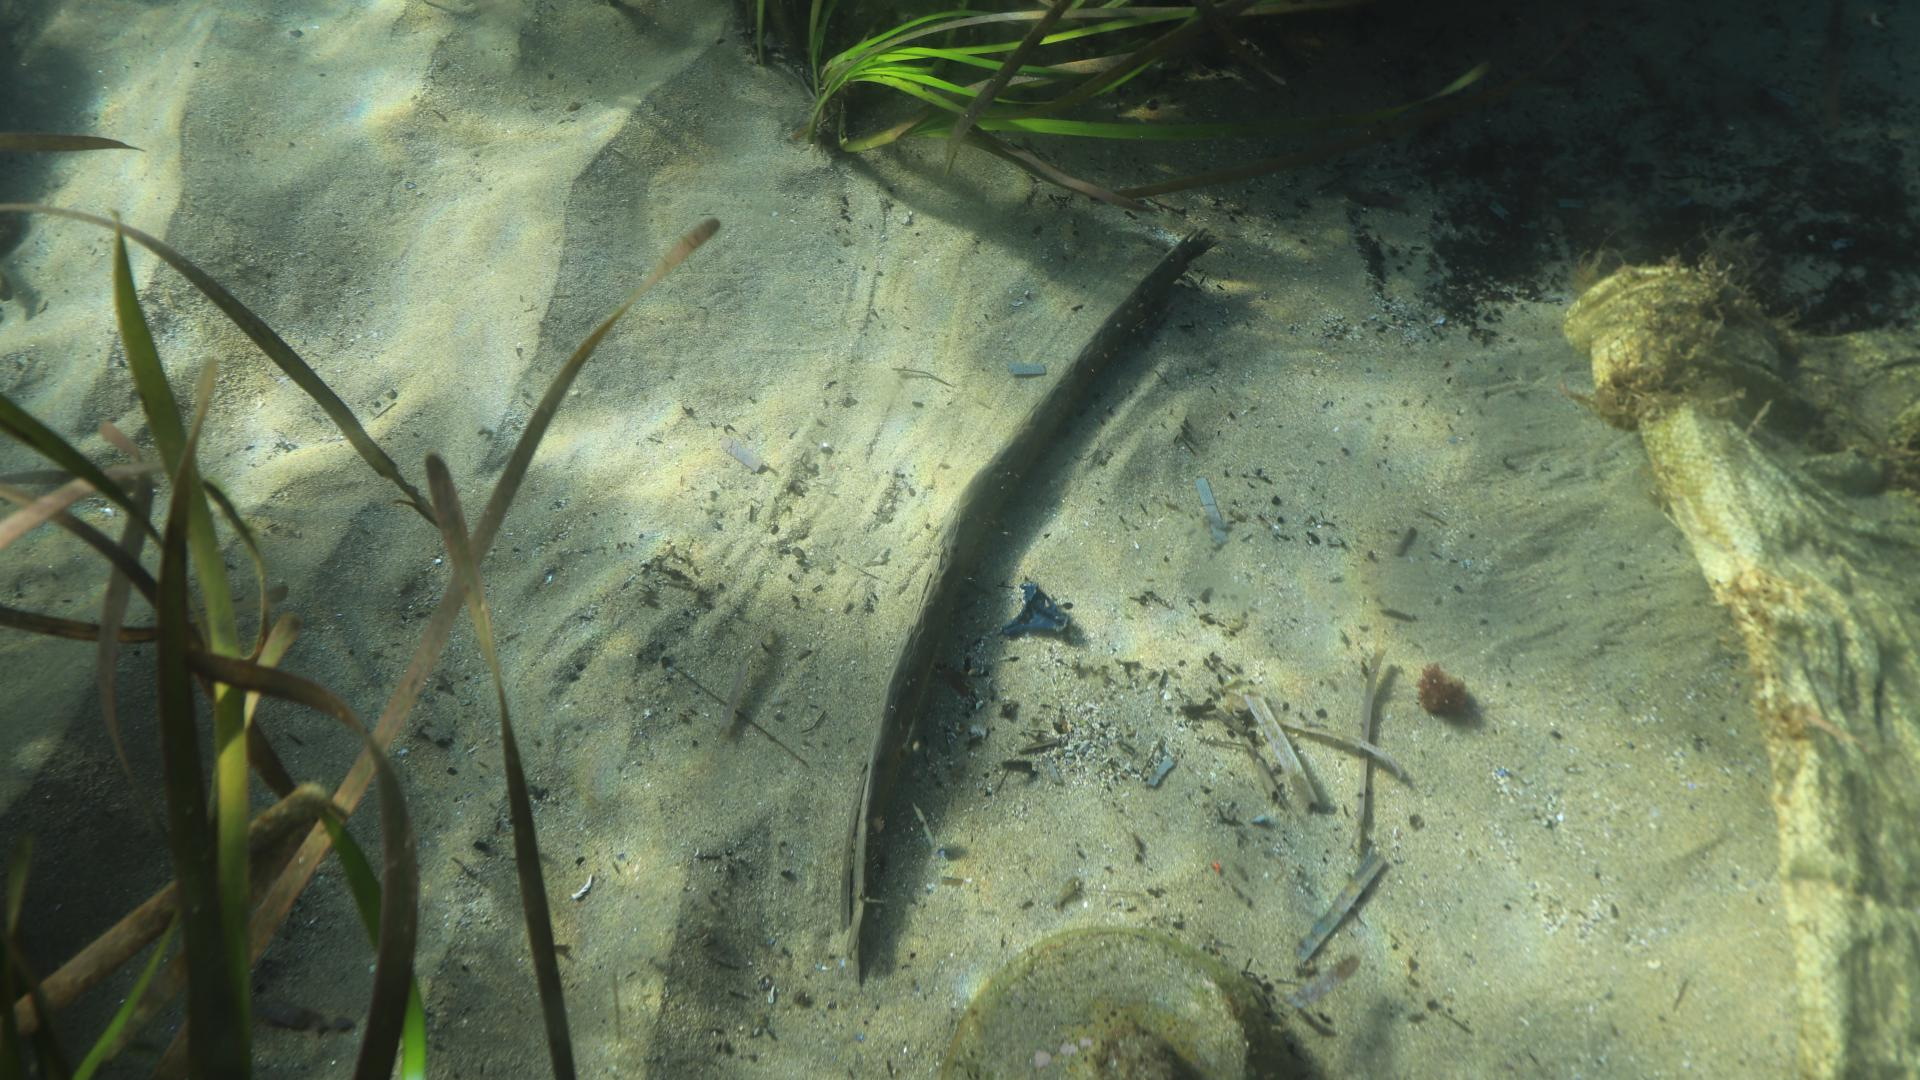wood: (833, 224, 1224, 982)
